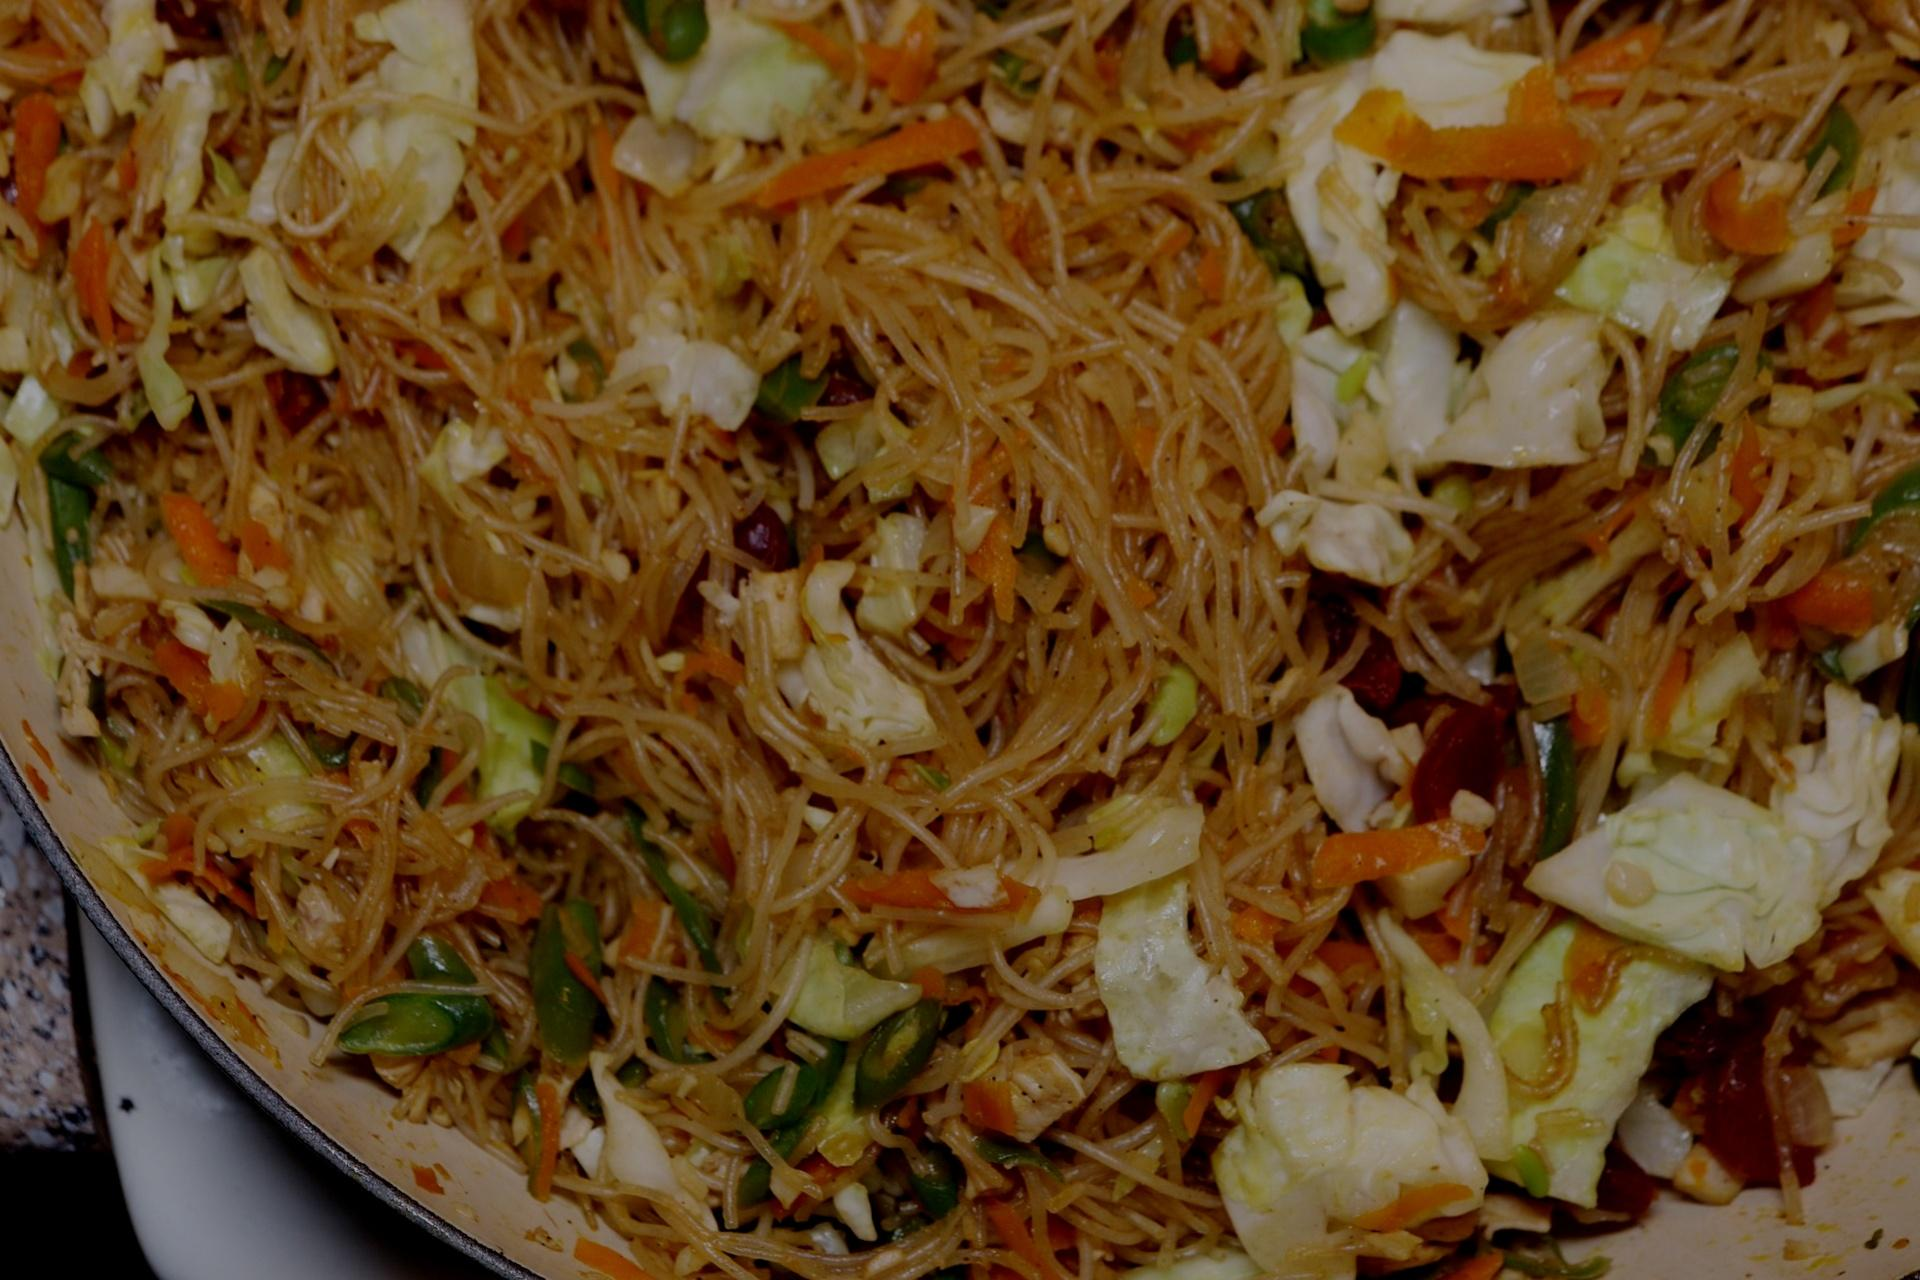pancit bihon: (0, 0, 1919, 1266)
